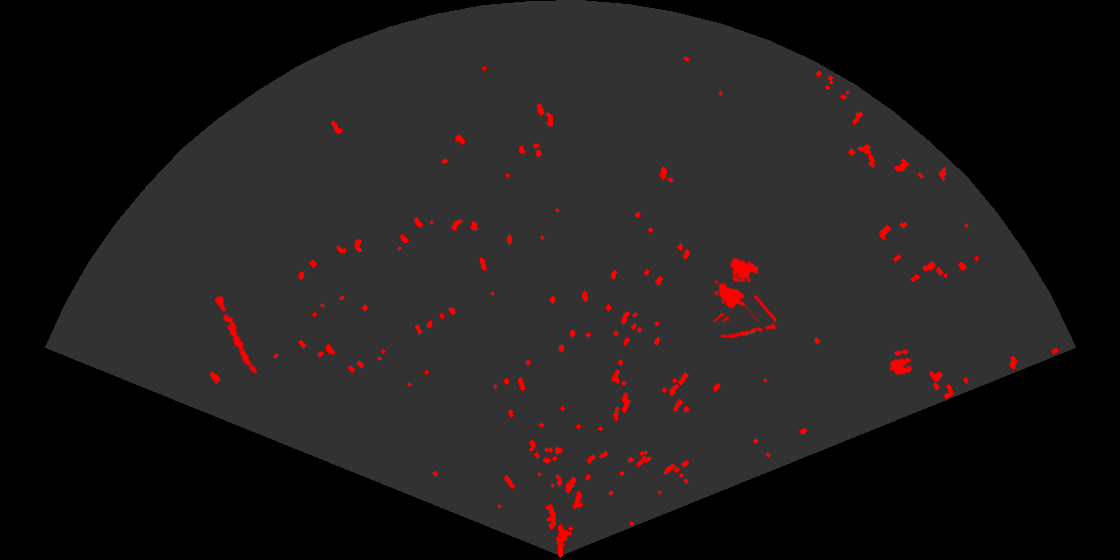ball: (888, 348, 914, 377)
cage: (710, 256, 776, 322)
chain: (212, 290, 259, 376), (718, 322, 778, 340)
